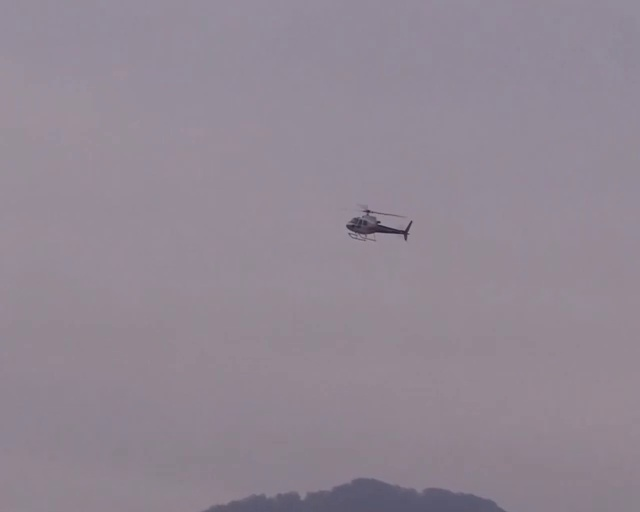HELICOPTER: (345, 203, 413, 242)
